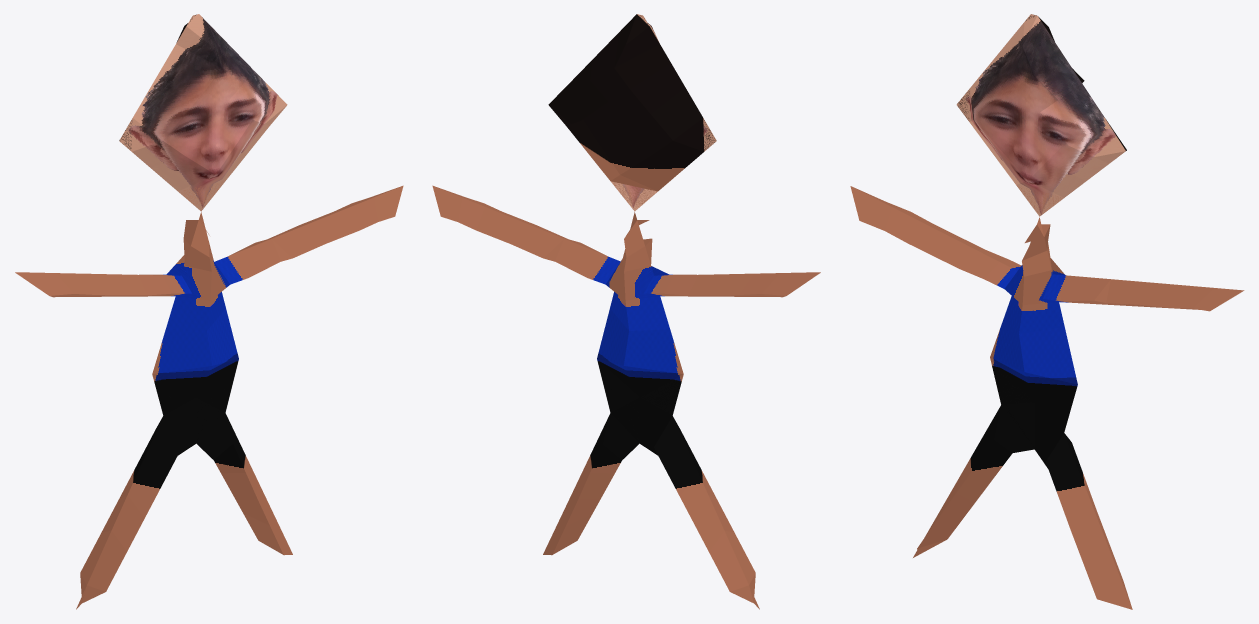
Rendered from josias_textured.glb.
3 views of the same model, side by side, from view 1: azimuth 30°, elevation 25°; view 2: azimuth 150°, elevation 25°; view 3: azimuth 330°, elevation 25° (orthographic).
Visible parts, largest first — view 1: Visual; view 2: Visual; view 3: Visual.
Boxes of the visible parts, x1,y1,x2,y2 form: Visual: (15, 14, 403, 609); Visual: (432, 14, 820, 609); Visual: (850, 14, 1244, 609).
Bounding box in the file's own units: 1.33 × 1.85 × 0.1537.
Materials: 1 (1 with a texture image).
